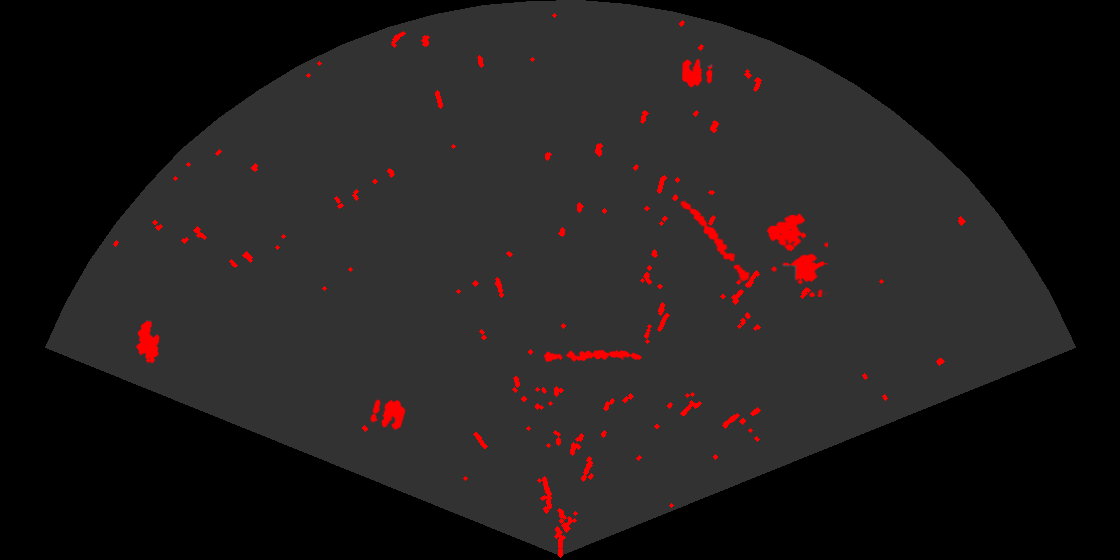AUV: (135, 319, 161, 365)
ball: (368, 398, 407, 432), (680, 57, 714, 89)
cage: (765, 211, 828, 297)
chain: (679, 199, 751, 283), (541, 348, 642, 363)
